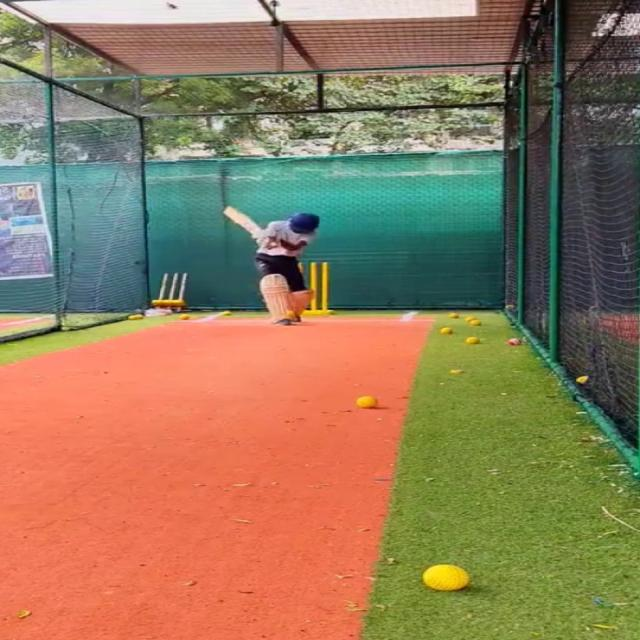ball: (421, 565, 472, 591), (354, 394, 384, 410), (506, 336, 525, 347), (463, 335, 482, 344), (468, 317, 487, 326), (440, 327, 455, 336), (180, 312, 192, 320), (449, 313, 460, 319)
stump: (309, 262, 333, 316)
